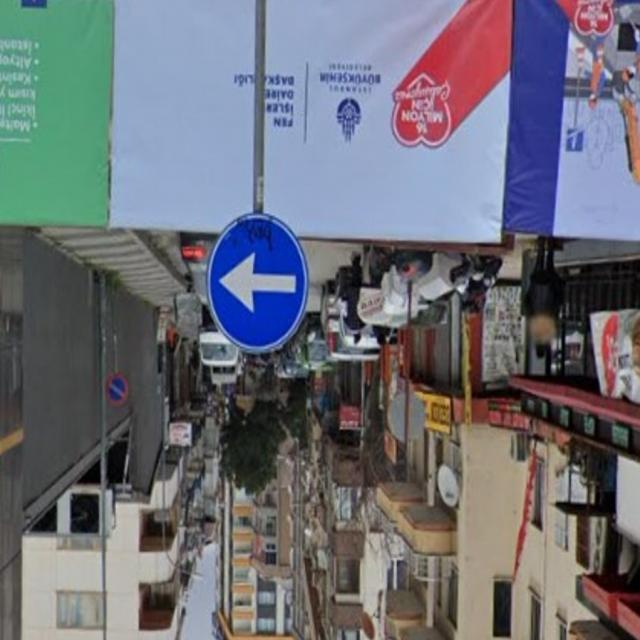Turn Left: (210, 211, 305, 355)
